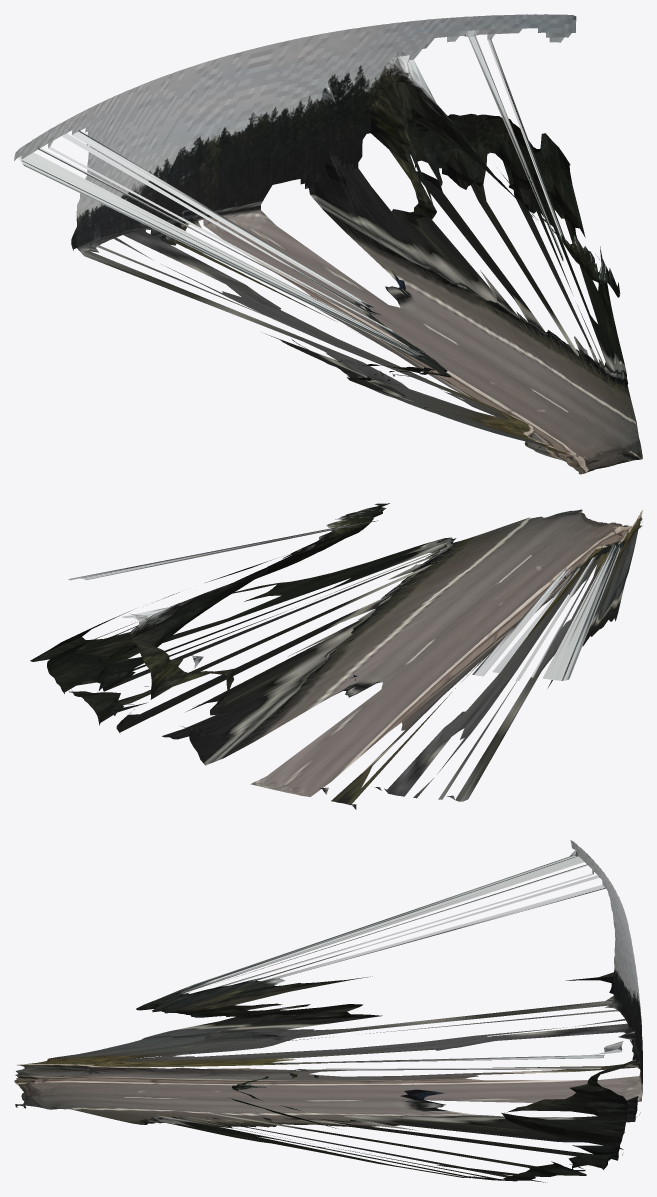
3 views of the same model, one above another, from view 1: azimuth 30°, elevation 25°; view 2: azimuth 150°, elevation 25°; view 3: azimuth 270°, elevation 25° (orthographic). The views are drawn at different scales.
Visible parts, largest first — view 1: defaultobject; view 2: defaultobject; view 3: defaultobject.
Boxes of the visible parts, left/top/right/bottom form: defaultobject: left=14, top=14, right=642, bottom=474; defaultobject: left=30, top=503, right=642, bottom=809; defaultobject: left=14, top=840, right=642, bottom=1182.
Size of the model in its own units: 40.67 by 12.06 by 44.79.
1 material, 1 textured.
